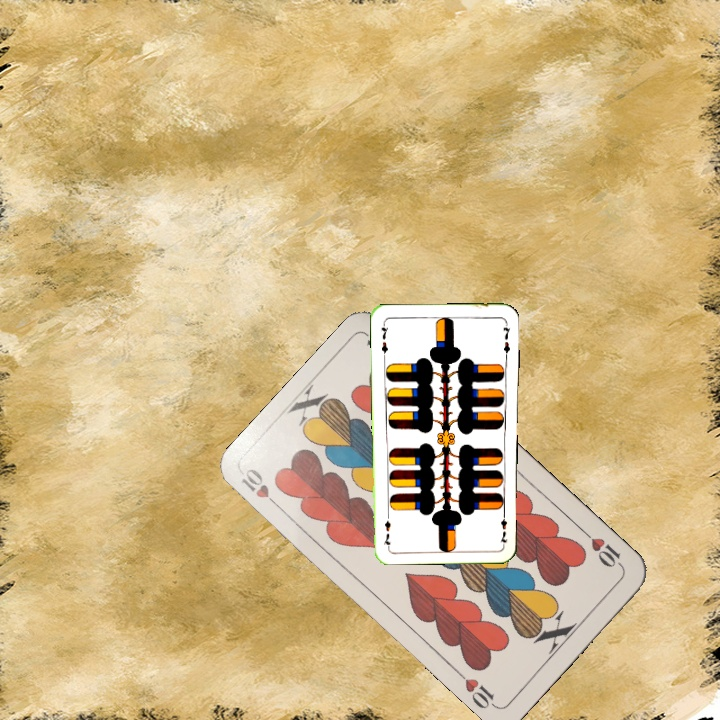E7: (377, 319, 391, 360), (497, 506, 510, 547)
H10: (237, 464, 285, 513), (578, 526, 626, 571)
